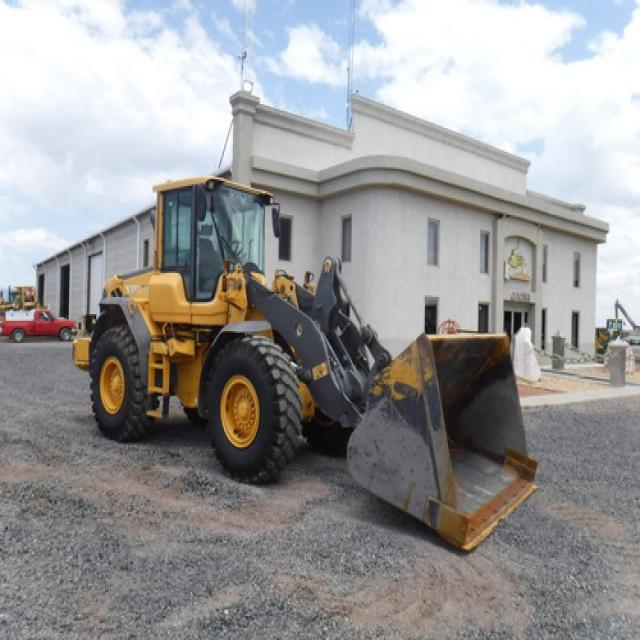buldozerpayloadergrader: (70, 171, 548, 555)
